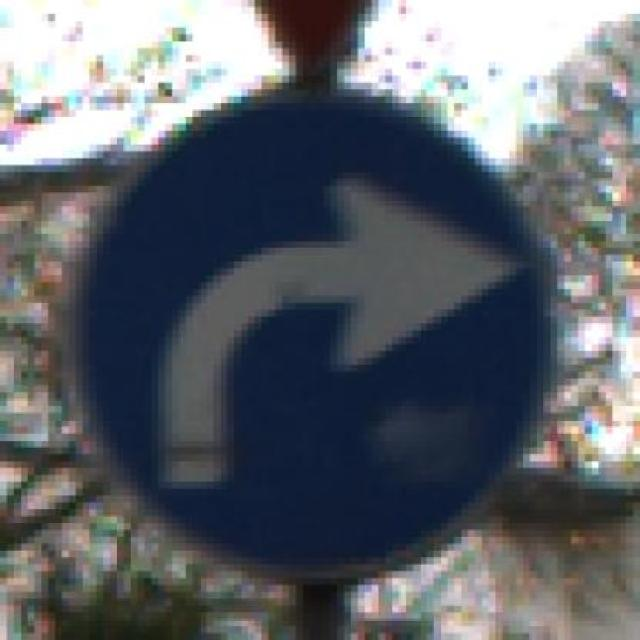Turn right ahead: (69, 76, 572, 606)
